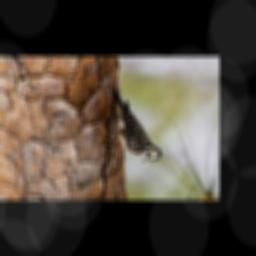Woodpecker: (105, 83, 162, 163)
